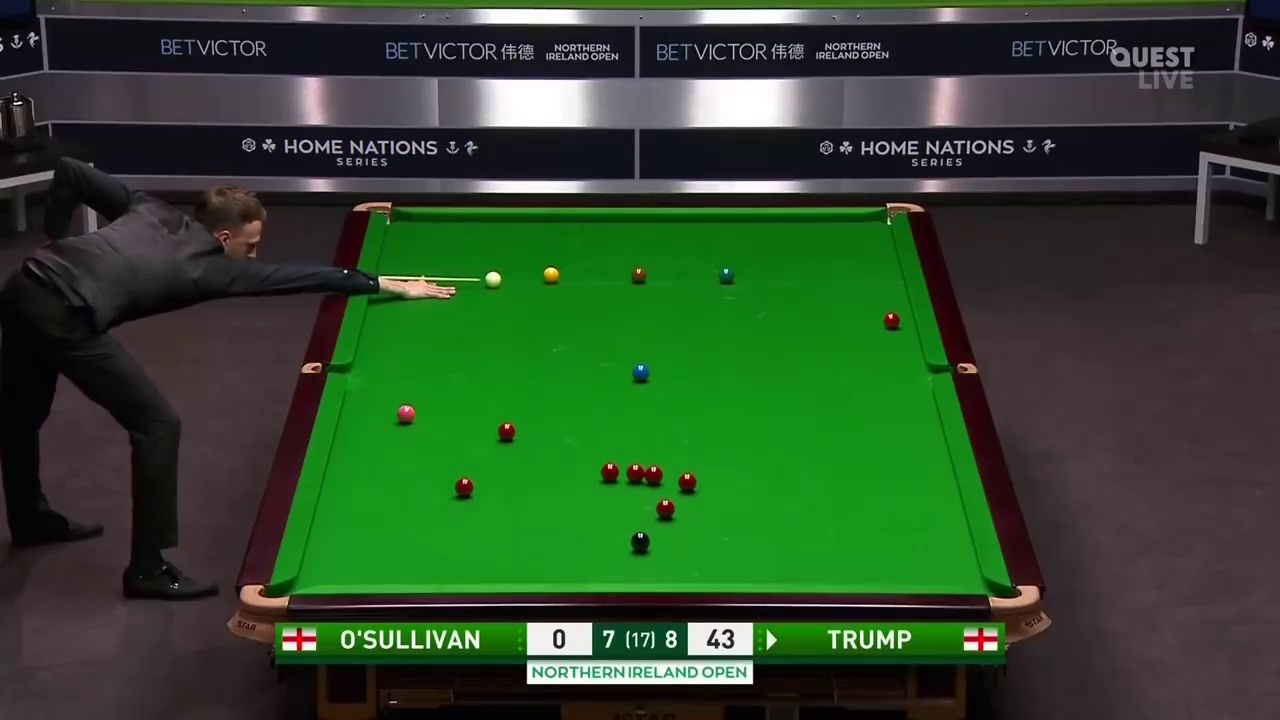ball: (481, 268, 505, 288), (395, 403, 416, 424), (656, 497, 677, 518), (452, 477, 472, 499), (630, 364, 651, 384), (630, 533, 651, 553), (597, 463, 618, 482), (643, 464, 662, 485), (715, 267, 734, 287), (495, 421, 515, 440), (880, 310, 901, 327), (542, 266, 561, 283), (630, 265, 647, 284), (678, 472, 696, 489)
